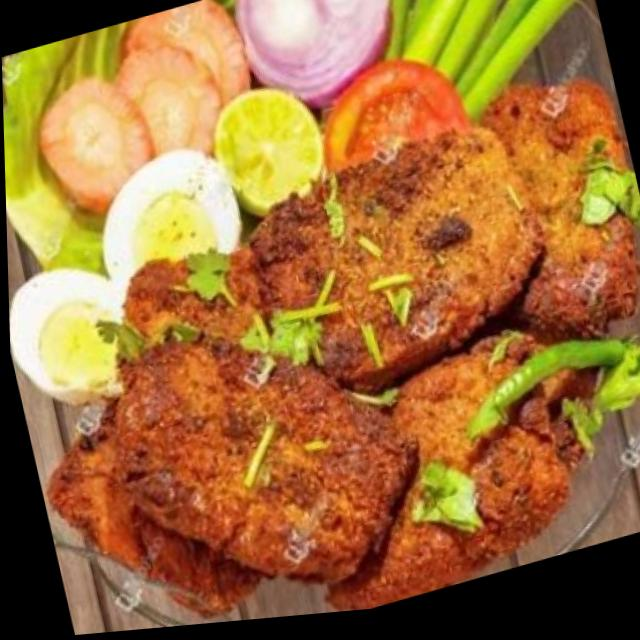FISH FRY: (7, 68, 640, 635)
